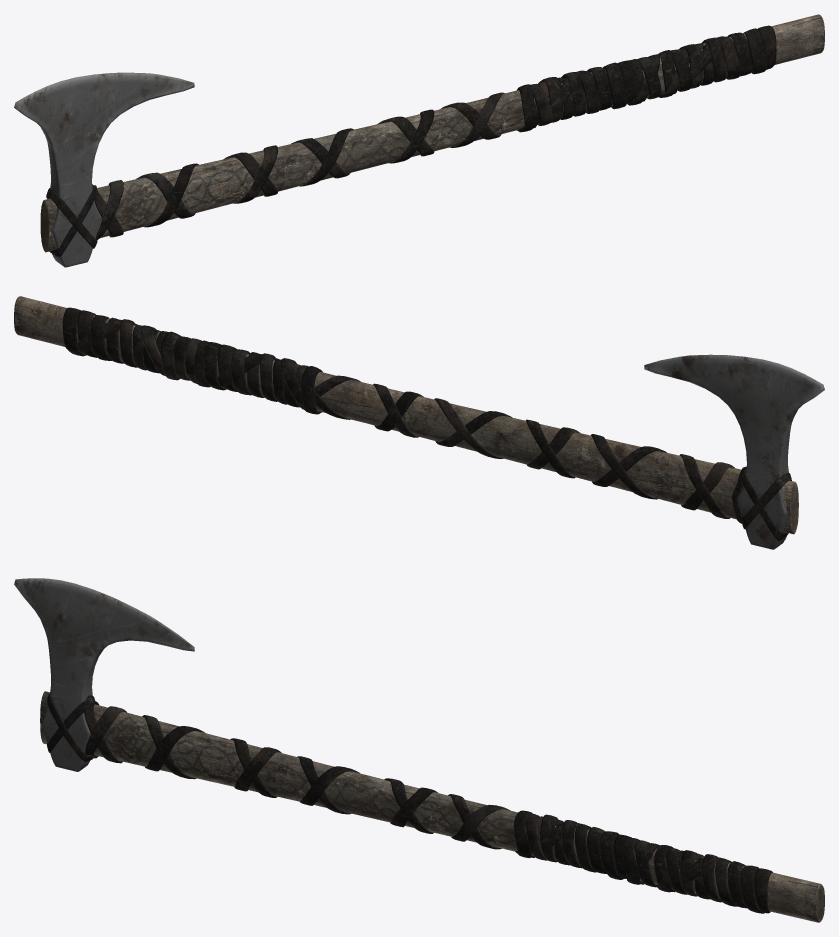
File: axe.obj
3 views of the same model, one above another, from view 1: azimuth 30°, elevation 25°; view 2: azimuth 150°, elevation 25°; view 3: azimuth 330°, elevation 25° (orthographic).
Parts seen in each view (by area): view 1: Viking_Axe_Mesh; view 2: Viking_Axe_Mesh; view 3: Viking_Axe_Mesh.
Boxes of the visible parts, <box> form: Viking_Axe_Mesh: <box>14,14,824,267</box>; Viking_Axe_Mesh: <box>14,296,824,549</box>; Viking_Axe_Mesh: <box>14,578,824,922</box>.
Bounding box in the file's own units: 250 × 54.33 × 8.43.
